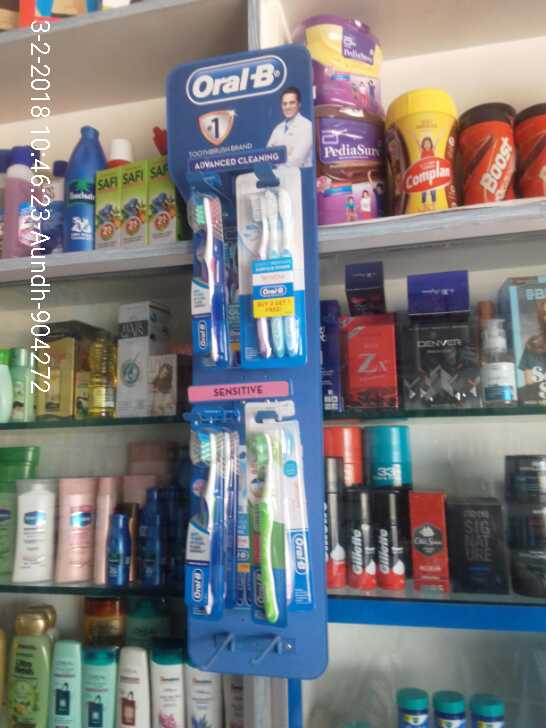pharmacy: (236, 168, 311, 370), (244, 398, 288, 628), (185, 189, 232, 371), (187, 411, 217, 619), (397, 688, 431, 728), (471, 693, 505, 728), (435, 691, 466, 728)
